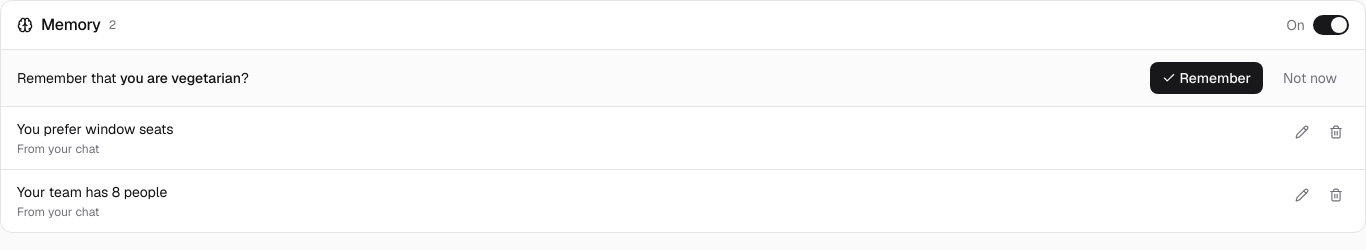
Scenario: AgentMemory › asks before remembering, and the switch turns memory off
Check: the text "Remember that you are vegetarian?" is shown, box [17,69,249,87]
Click the button "Remember".
click(1206, 78)  # box [1150,62,1263,94]
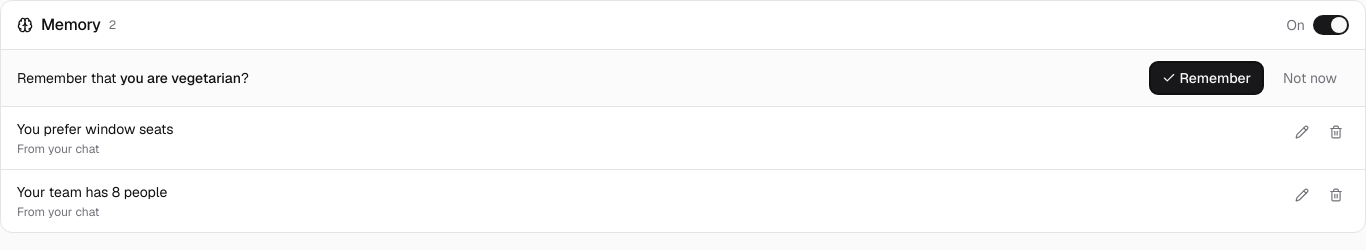
Click the switch named "Remember things about me".
click(1331, 25)  # box [1313,15,1349,35]
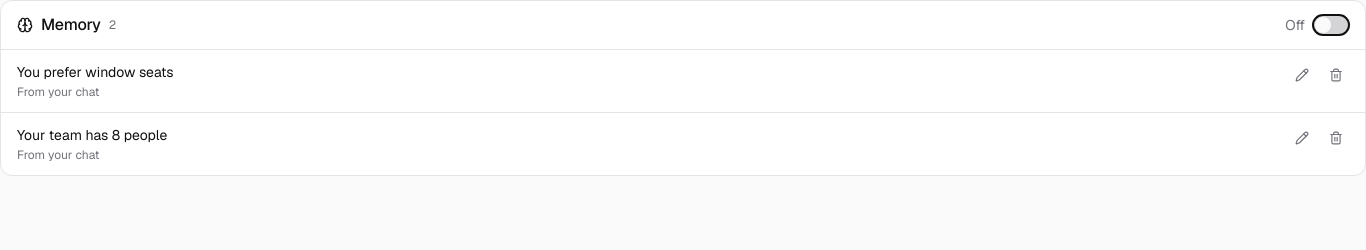
Check: the text "Remember that" is gone
